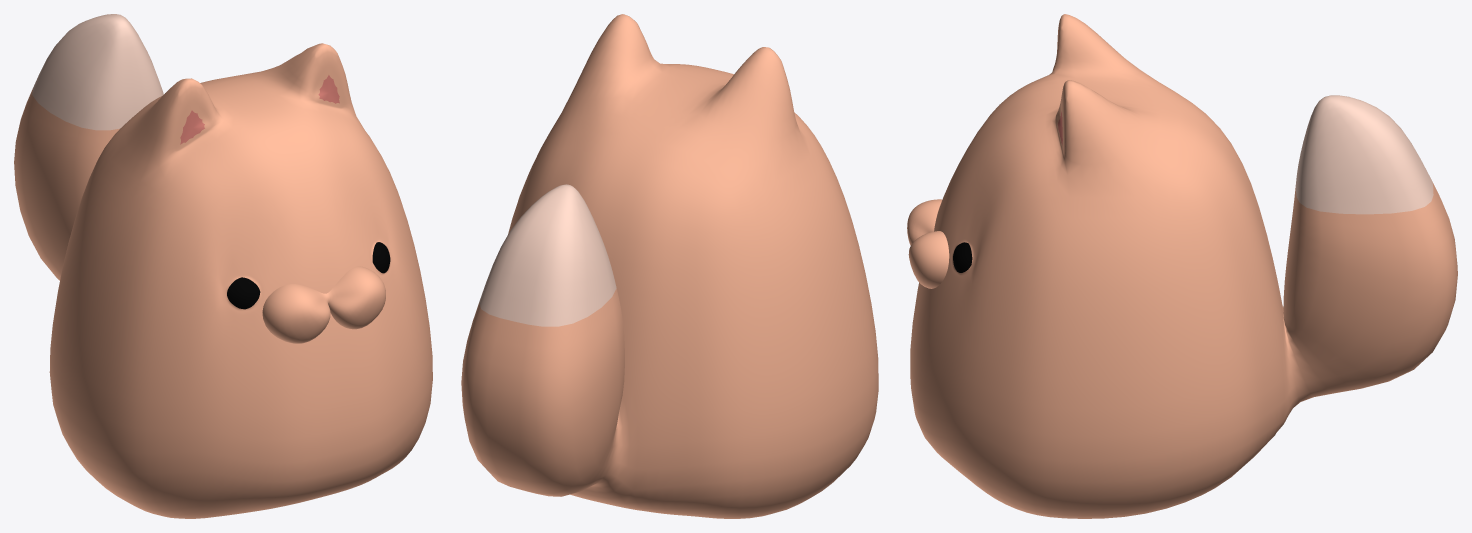
Rendered from test_rabit.glb.
The picture shows the model from 3 angles, left to right: view 1: azimuth 30°, elevation 25°; view 2: azimuth 150°, elevation 25°; view 3: azimuth 270°, elevation 25°; orthographic projection. The views are drawn at different scales.
Visible parts, largest first — view 1: Cat.001; view 2: Cat.001; view 3: Cat.001.
Part boxes in pixels (box(x1,y1,x2,y2)): Cat.001: box(14, 14, 432, 518); Cat.001: box(461, 14, 878, 518); Cat.001: box(907, 14, 1457, 518).
Size of the model in its own units: 1.07 by 1.33 by 1.58.
